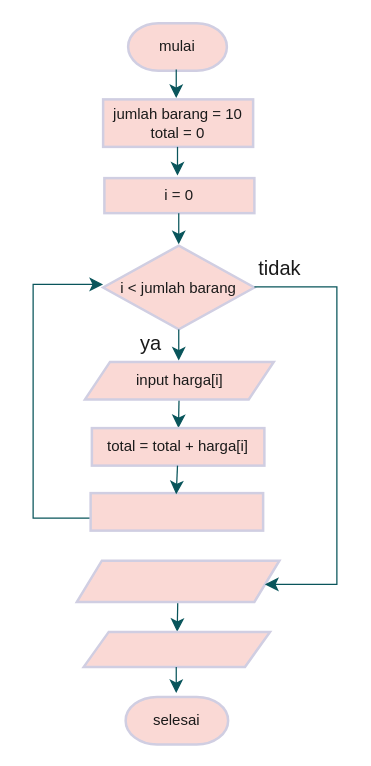
This 371x766 diagram has some shape labels left out. Here are the shapes that lost their labels. From the top down, the centre of each, then its label:
At (x=176, y=511): "i++".
At (x=177, y=580): "tampilkan daftar harga".
At (x=176, y=649): "tampilkan total".
